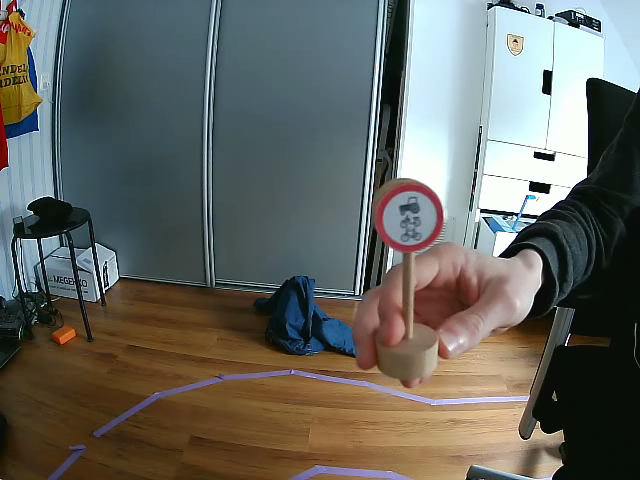fietspad: (377, 185, 443, 253)
